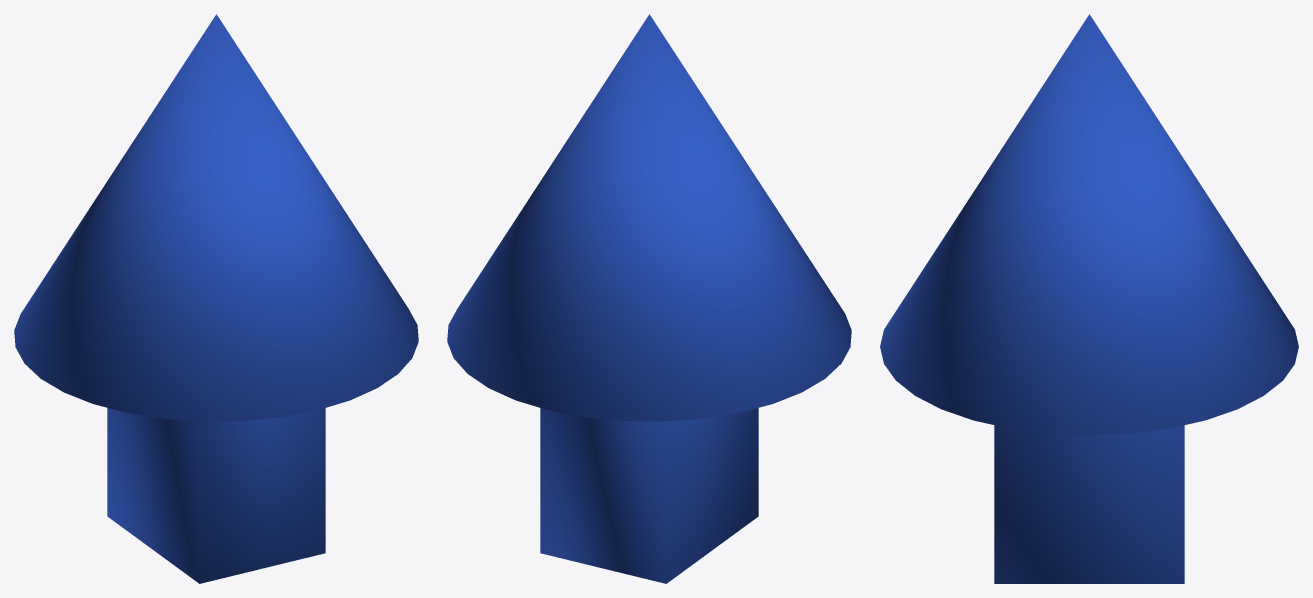
Rendered from blackArrow.obj.
3 views of the same model, side by side, from view 1: azimuth 30°, elevation 25°; view 2: azimuth 150°, elevation 25°; view 3: azimuth 270°, elevation 25° (orthographic). The views are drawn at different scales.
Visible parts, largest first — view 1: 立方体; view 2: 立方体; view 3: 立方体.
Boxes of the visible parts, x1=… form: 立方体: x1=14, y1=14, x2=418, y2=583; 立方体: x1=447, y1=14, x2=851, y2=583; 立方体: x1=880, y1=14, x2=1298, y2=583.
Size of the model in its own units: 4.35 by 6.16 by 4.35.
